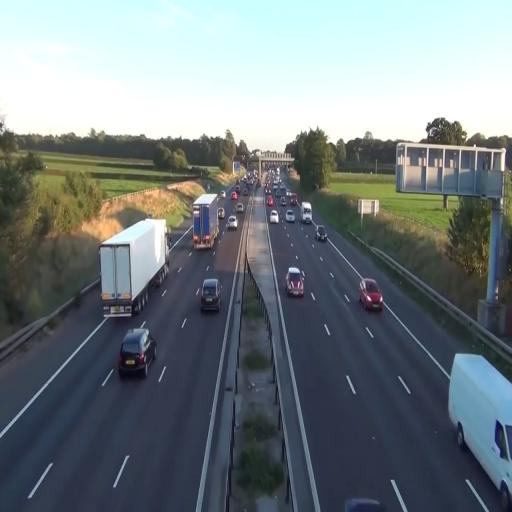vehicle: (448, 350, 512, 510), (447, 352, 512, 508), (448, 351, 512, 509), (98, 216, 170, 318), (118, 326, 157, 378), (192, 194, 220, 253), (198, 277, 222, 313), (358, 278, 383, 312), (286, 265, 305, 297), (268, 206, 280, 224), (226, 214, 238, 230), (316, 224, 326, 243), (302, 203, 312, 222), (285, 210, 296, 222)
